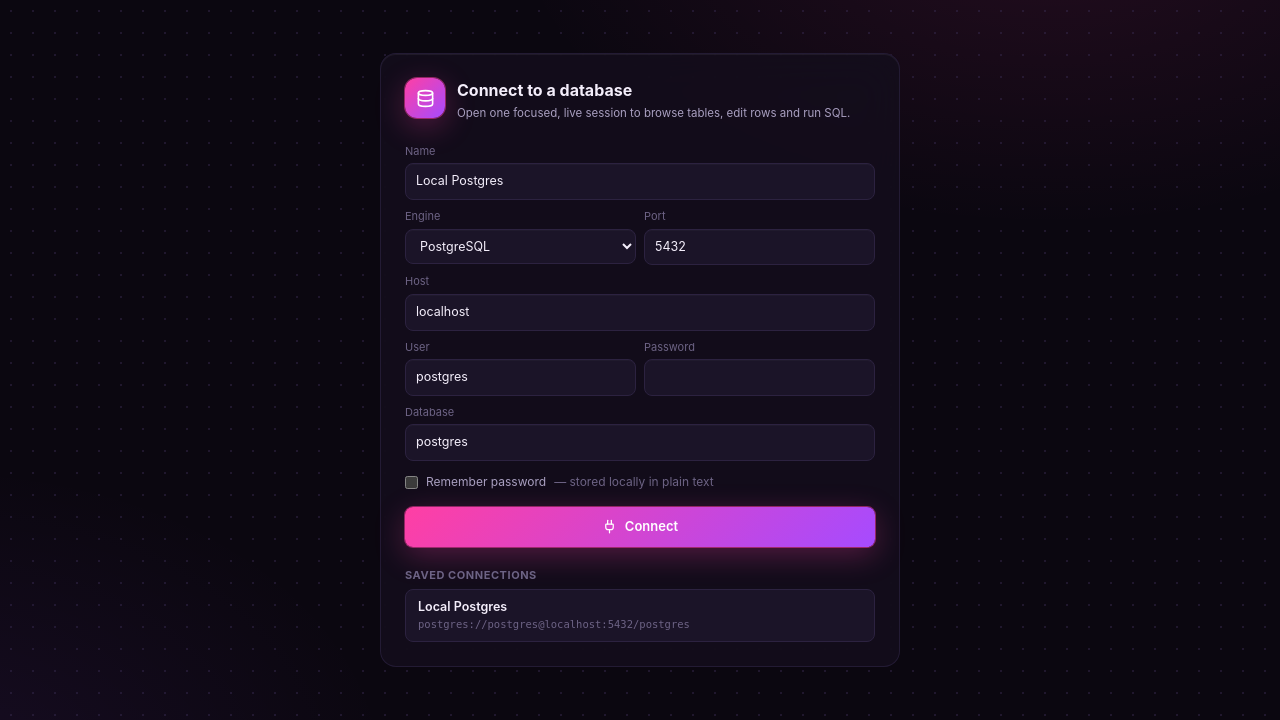
Test: DatabasePanel table sidebar › keeps bulk controls out of the way and supports table actions and collapse
Click the button "Connect": (640, 527) 405,507 -> 875,547
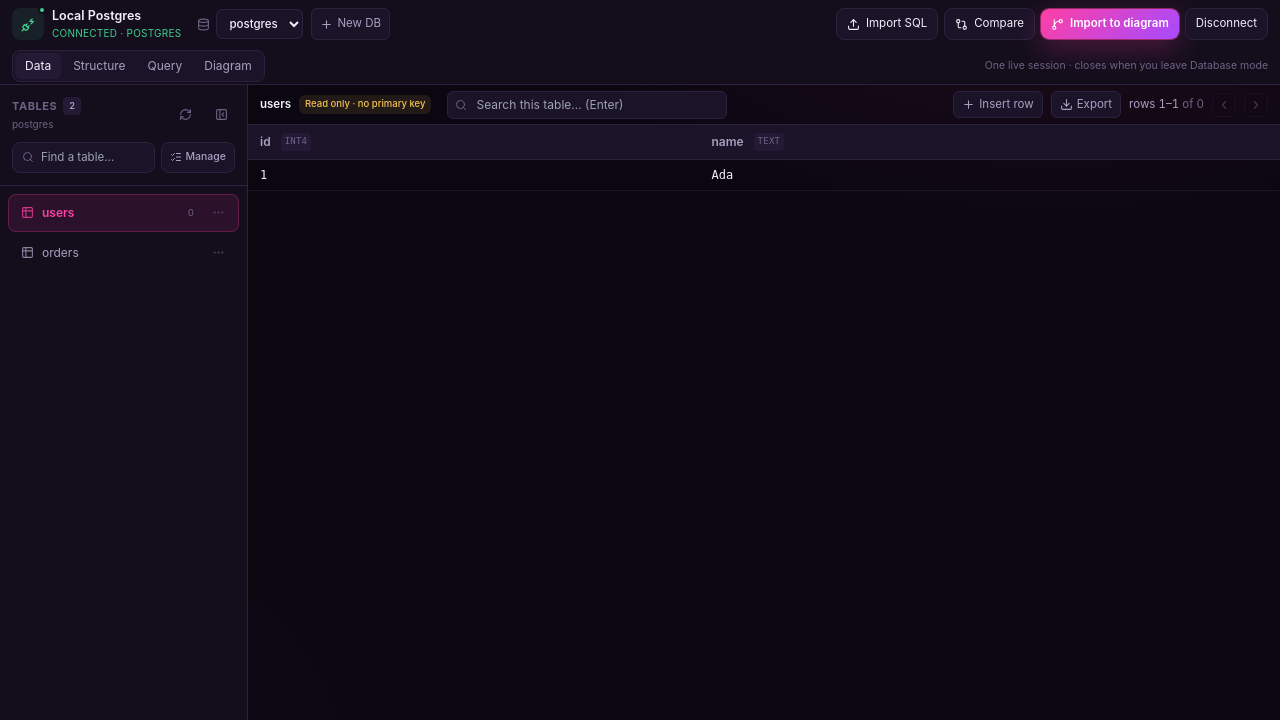
Expected: the button "users 0" is shown, 15,200 -> 200,226
Click the button named "Actions for users": (218, 213) 204,199 -> 232,227
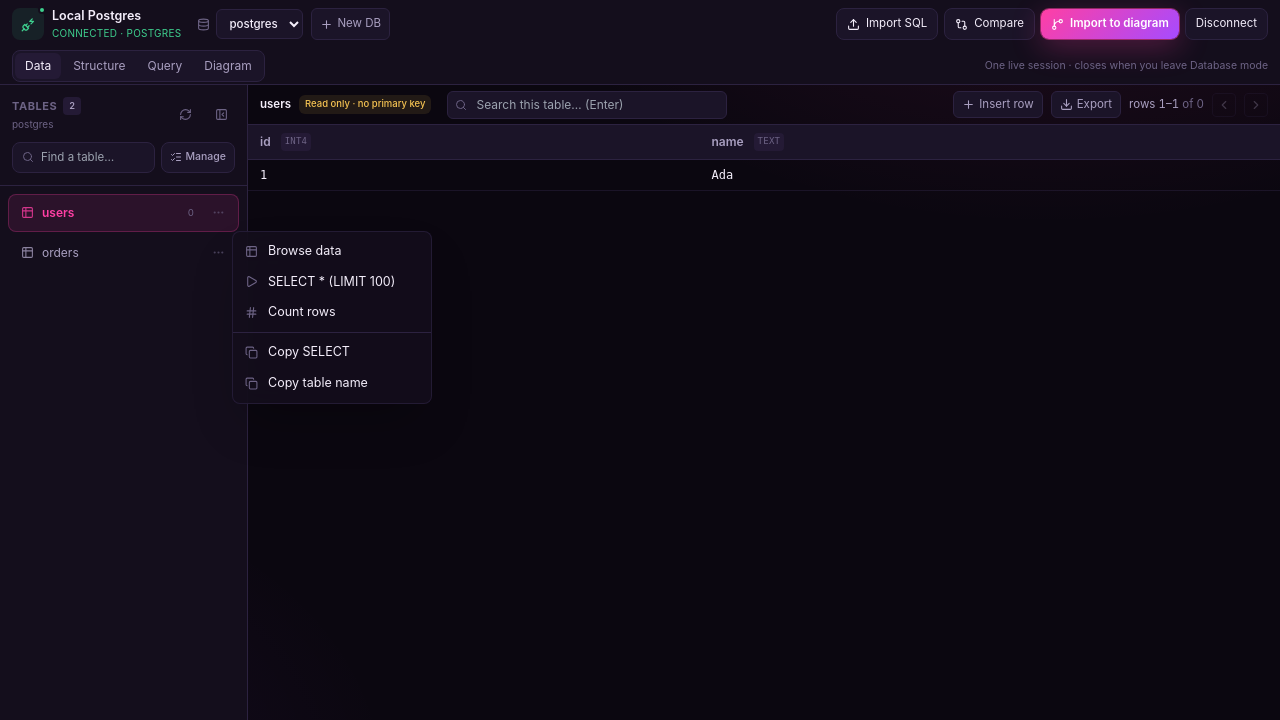
Expected: the text "Browse data" is shown, 268,243 -> 341,258
Press Escape
Click the button with aria-label "Manage tables": (198, 157) 160,142 -> 235,173
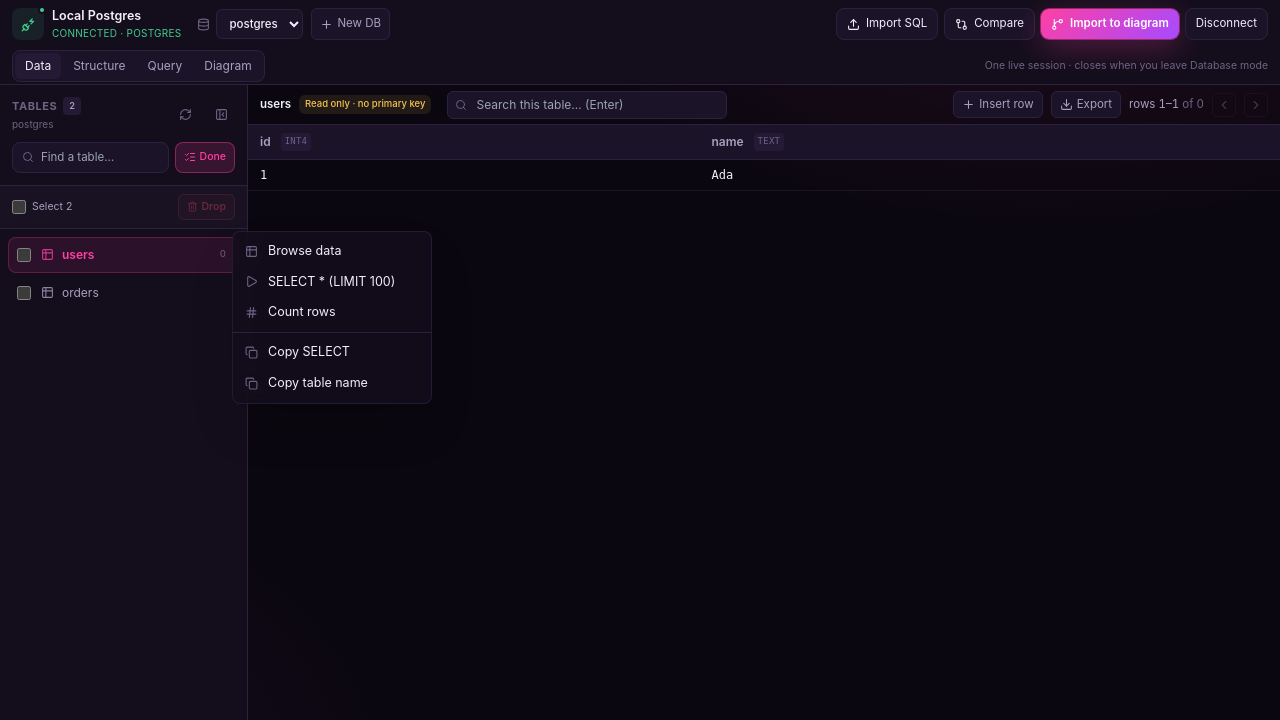
Expected: the number of checkboxes titled "Select for bulk drop" is 2
Click the checkbox named "Select users": (24, 254) 17,248 -> 31,262
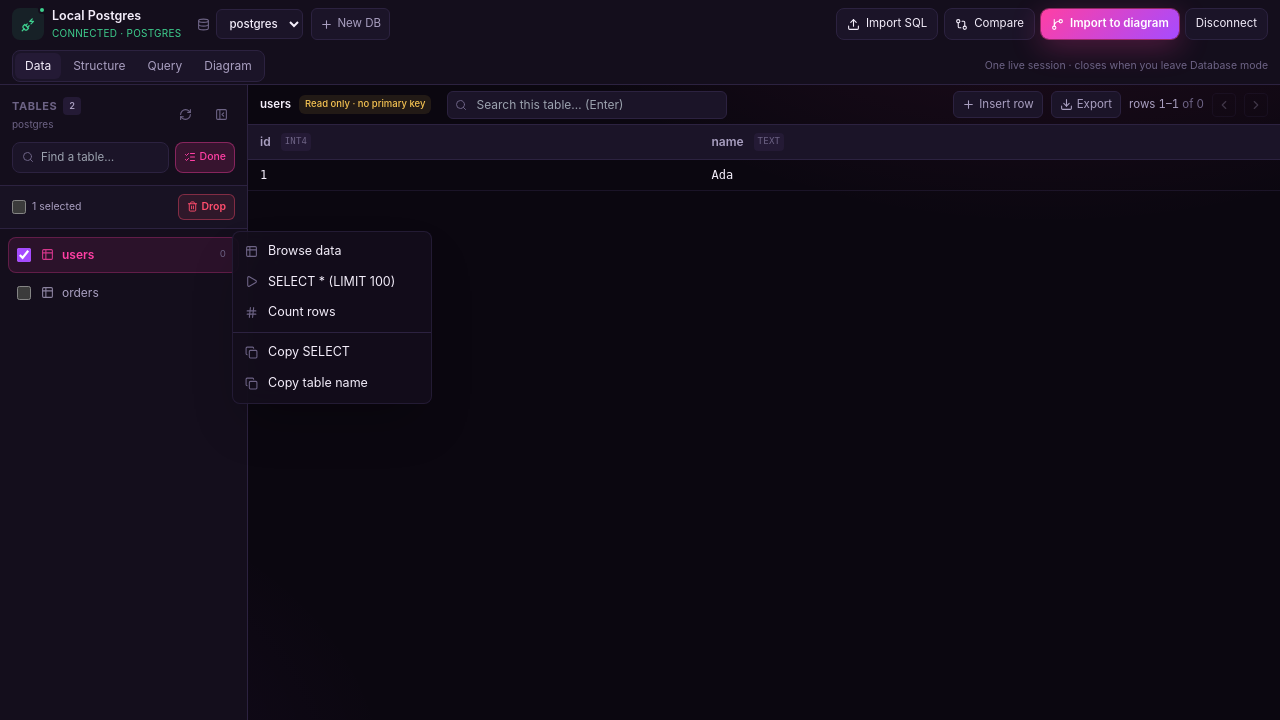
Click the button named "Collapse table sidebar": (221, 114) 207,100 -> 235,128
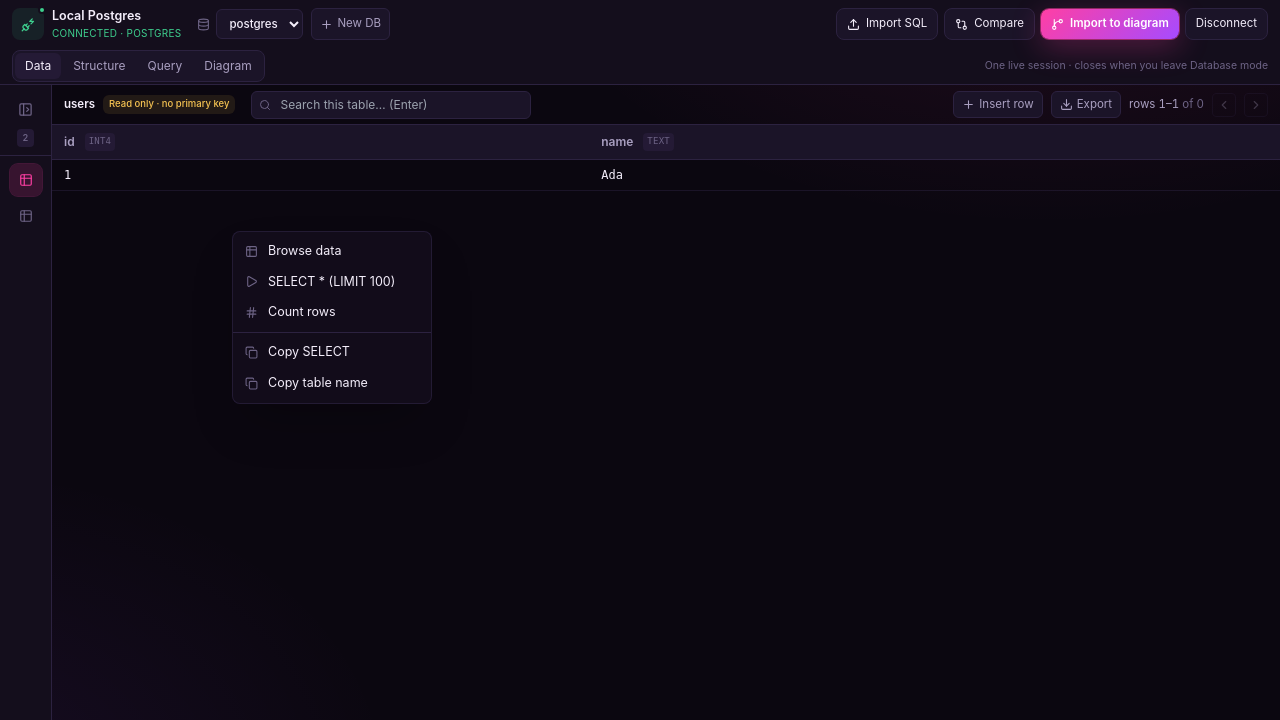
Expected: the element with test id "database-sidebar" has attribute data-collapsed="true", 0,85 -> 52,719
Click the button named "Expand table sidebar": (26, 109) 10,93 -> 42,125
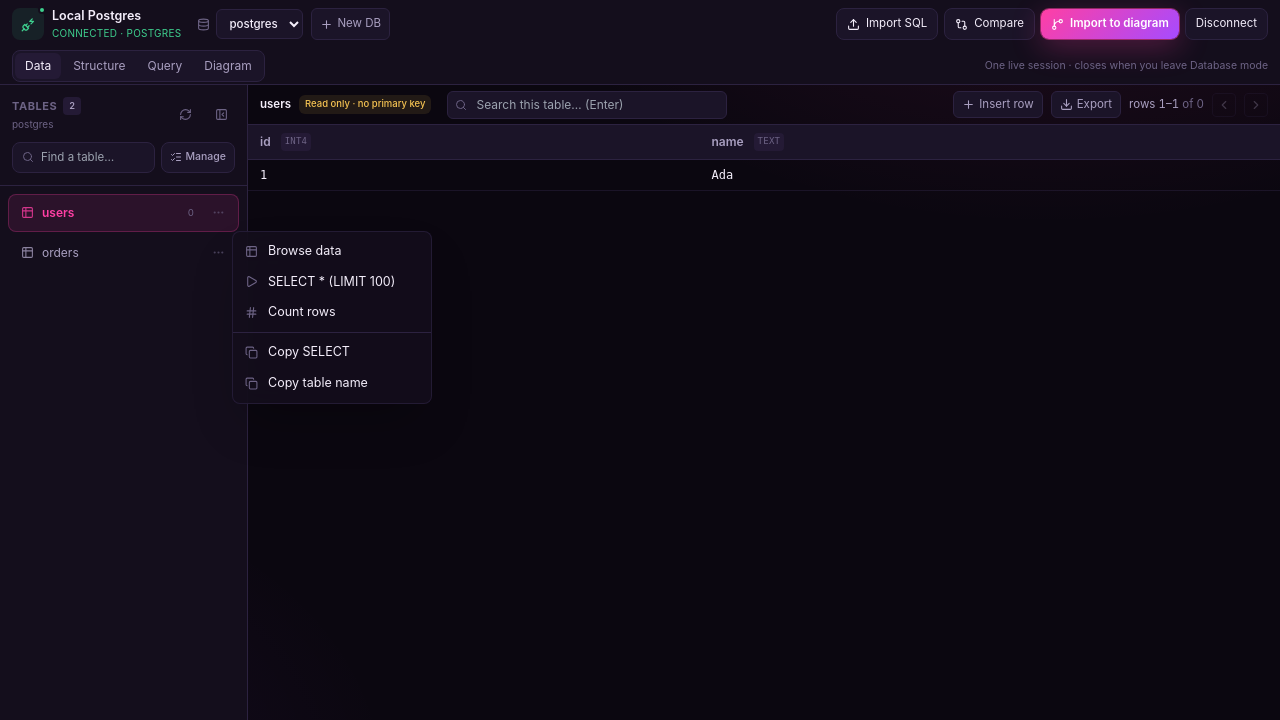
Expected: the button with aria-label "Manage tables" is shown, 160,142 -> 235,173
